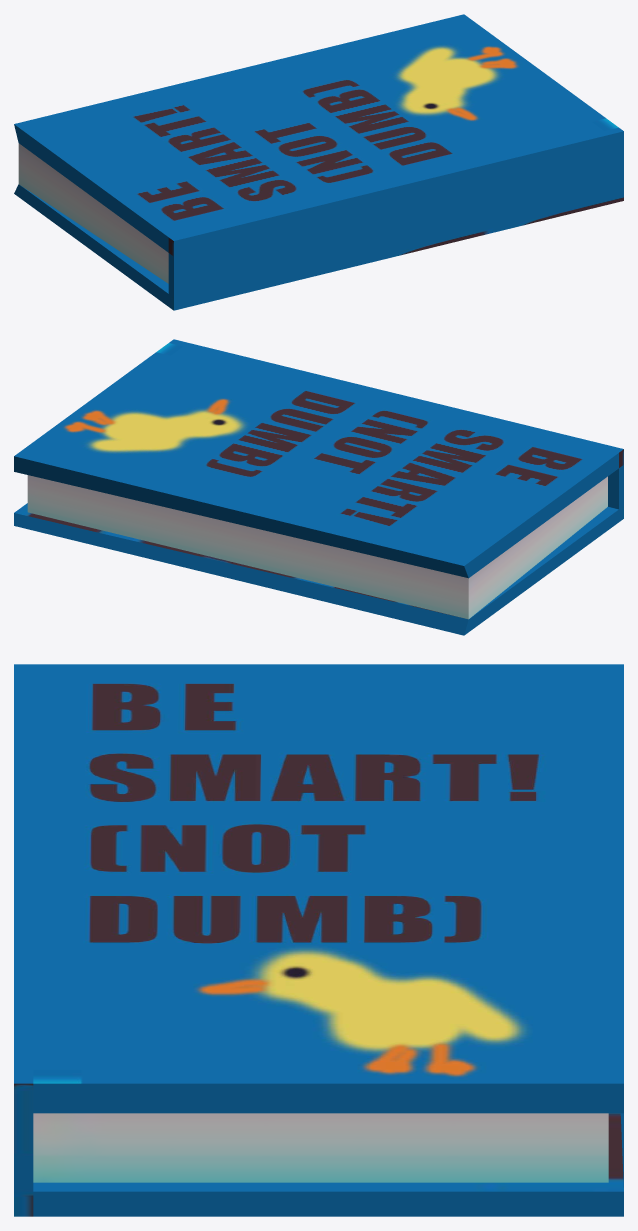
Rendered from Book1.glb.
3 renders of one model, top to bottom at view 1: azimuth 30°, elevation 25°; view 2: azimuth 150°, elevation 25°; view 3: azimuth 270°, elevation 25°, orthographic. The views are drawn at different scales.
Visible parts, largest first — view 1: Cube; view 2: Cube; view 3: Cube.
Part boxes in pixels (x1=…): Cube: x1=14, y1=14, x2=623, y2=310; Cube: x1=14, y1=339, x2=623, y2=635; Cube: x1=14, y1=664, x2=623, y2=1216.
Bounding box in the file's own units: 3.36 × 0.4963 × 2.07.
1 material, 1 textured.
